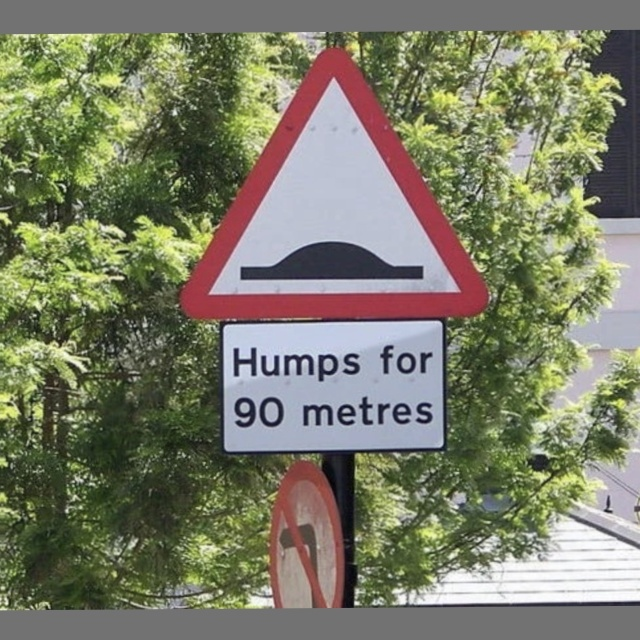Hump_or_Rough_Road: (191, 51, 470, 315)
